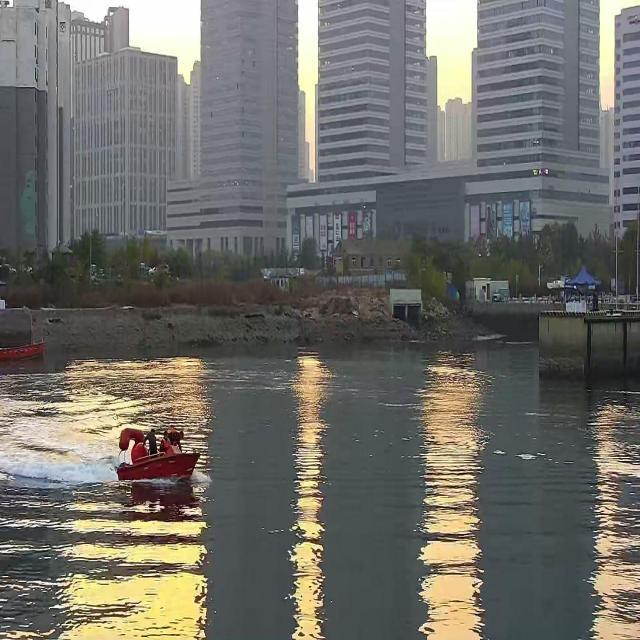ship2: (118, 427, 201, 479)
